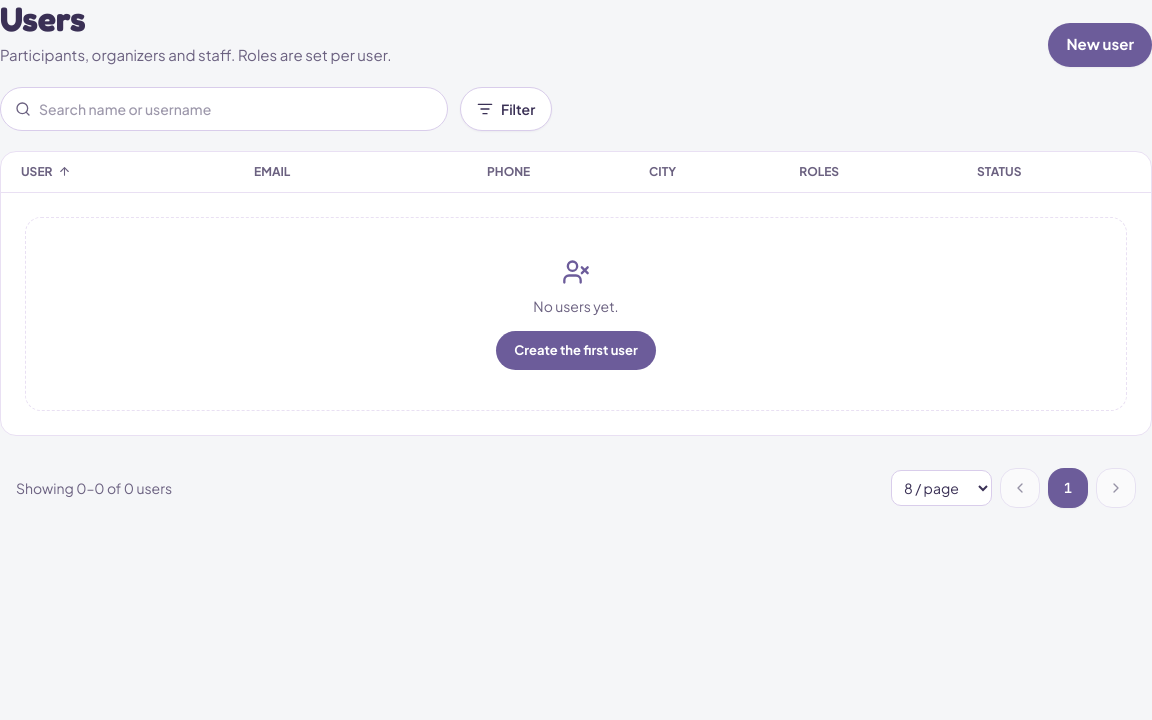
Test: UsersPage › shows an empty state with a way back when the filters match nobody
Click the button "Filter" at (506, 108), box [460,86,552,130]
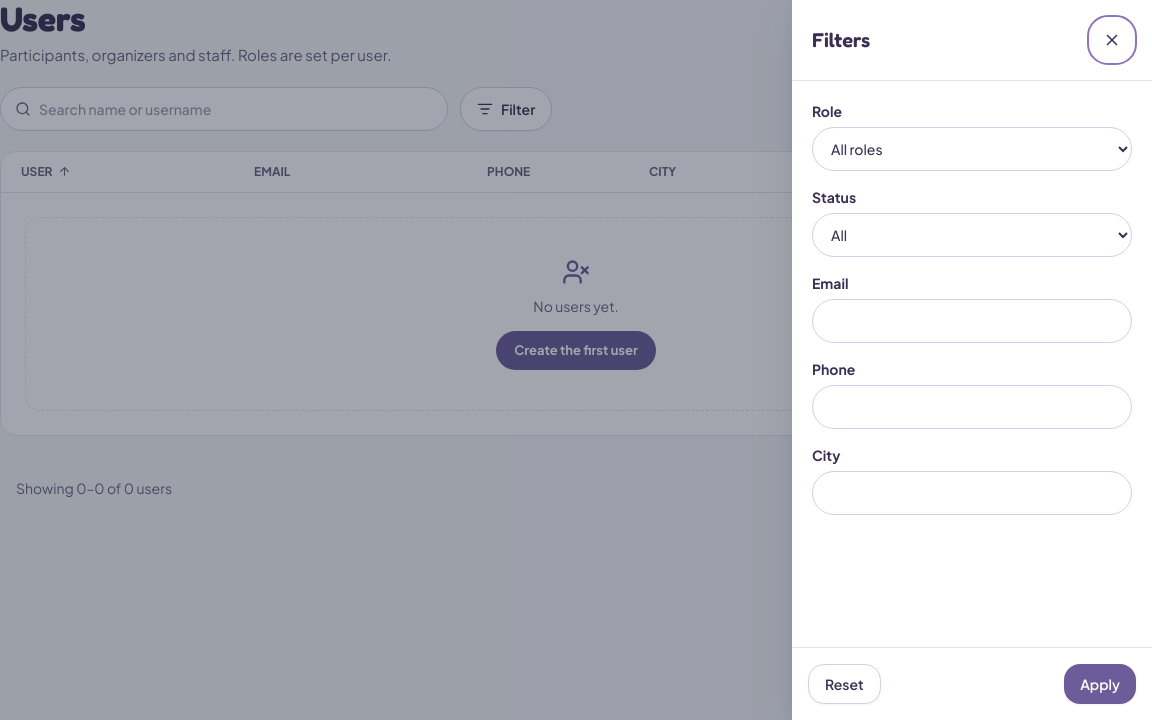
Select "Suspended" in the dropdown named "Filter status" at (972, 235), box [812,213,1132,257]
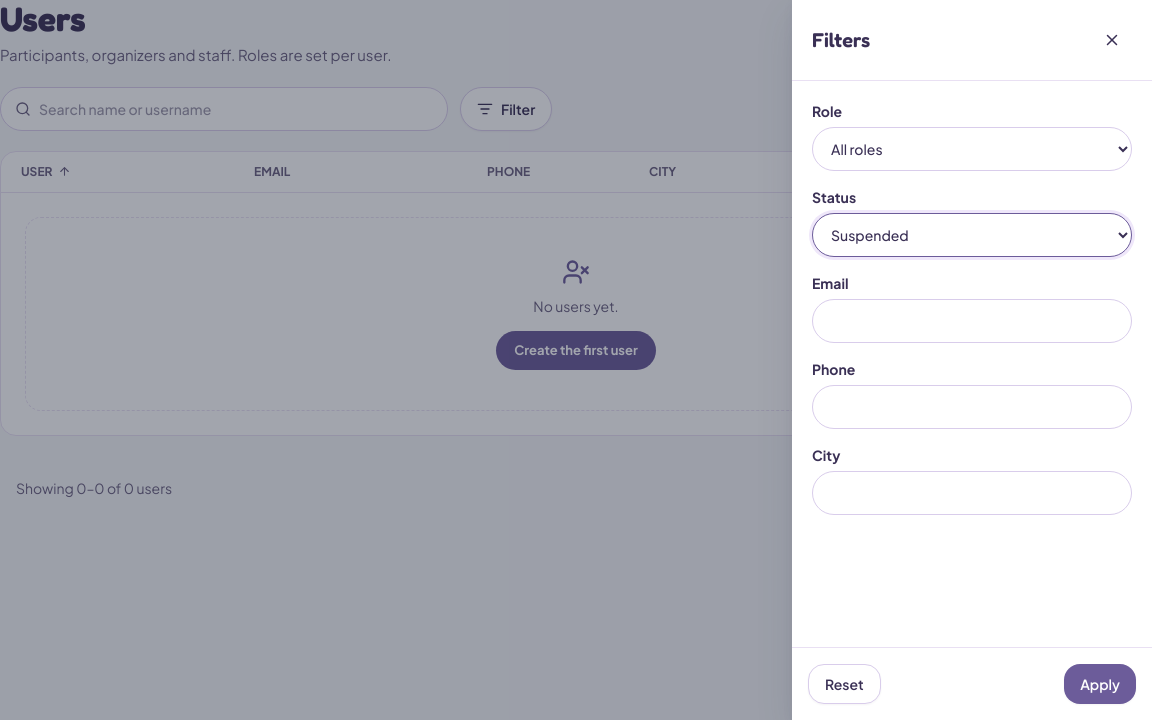
Click the button "Apply" at (1100, 684), box [1064,664,1136,704]
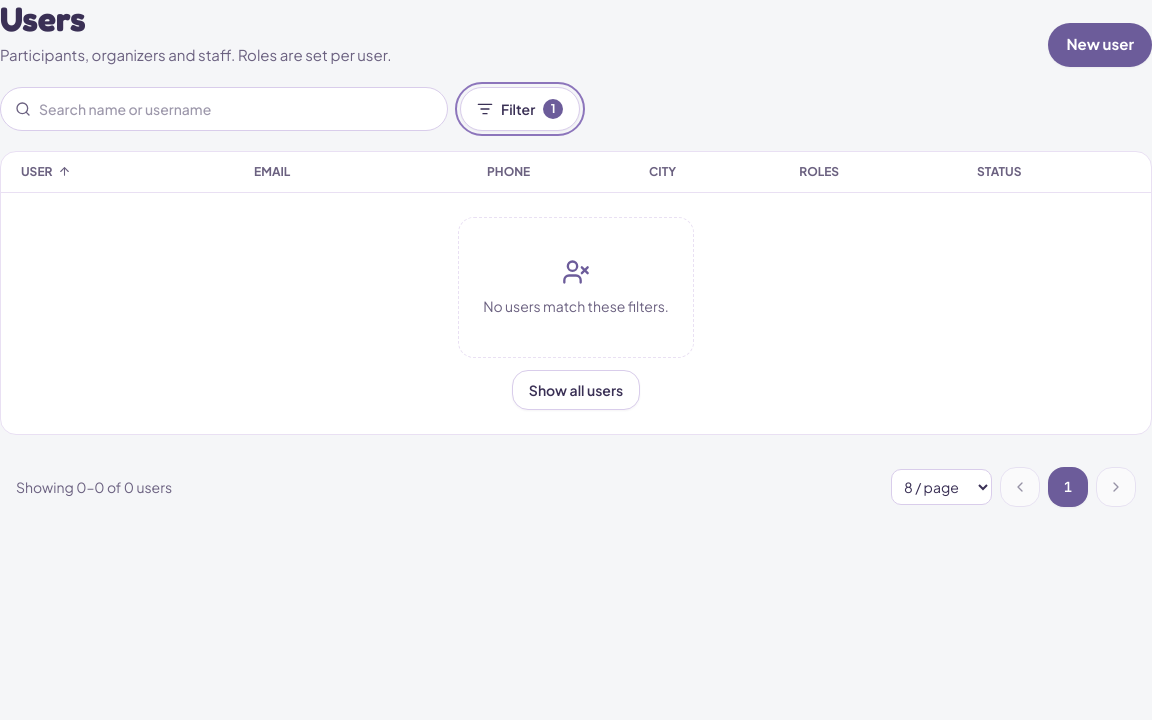
Now the text "No users match these filters." is shown, box [483,296,669,316]
Click the button "Show all users" at (576, 390), box [512,370,640,410]
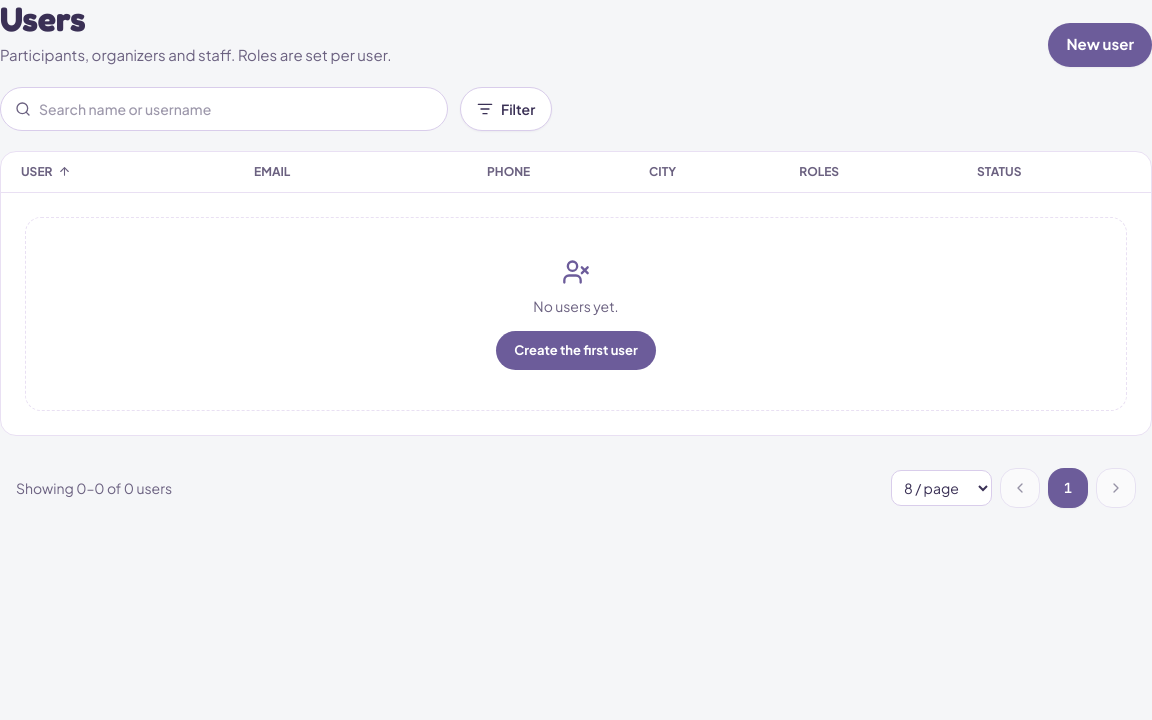
Click the button "Filter" at (506, 108), box [460,86,552,130]
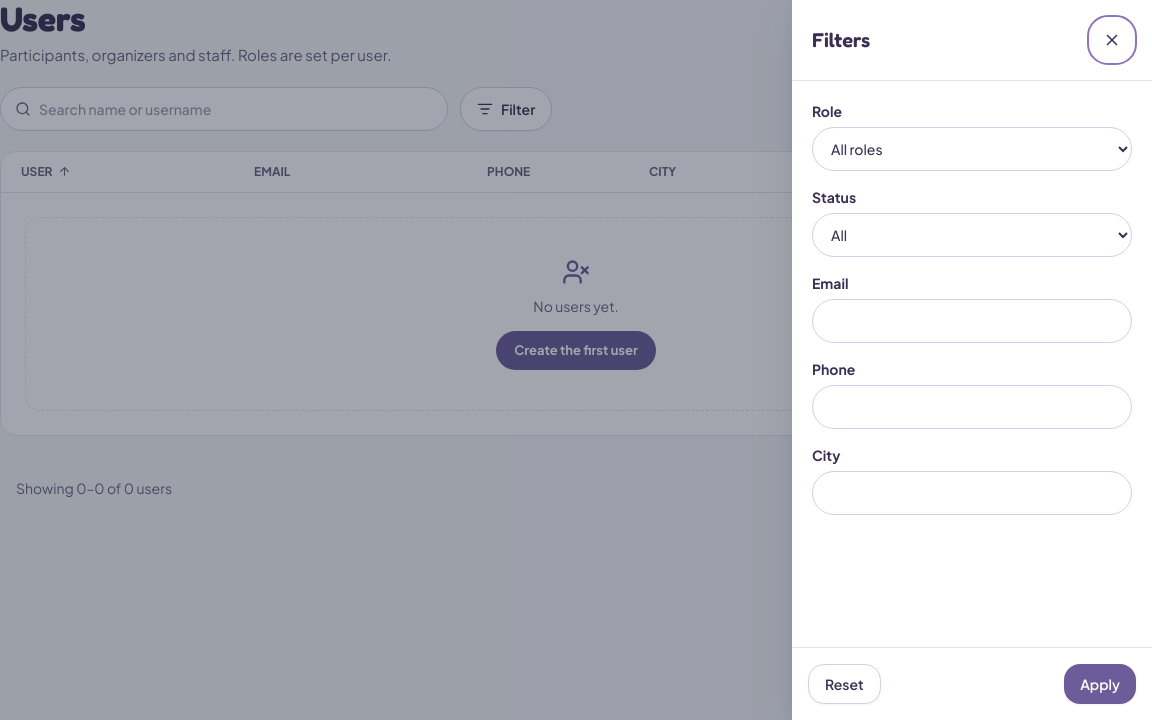
Now the dropdown named "Filter status" shows "All", box [812,213,1132,257]
